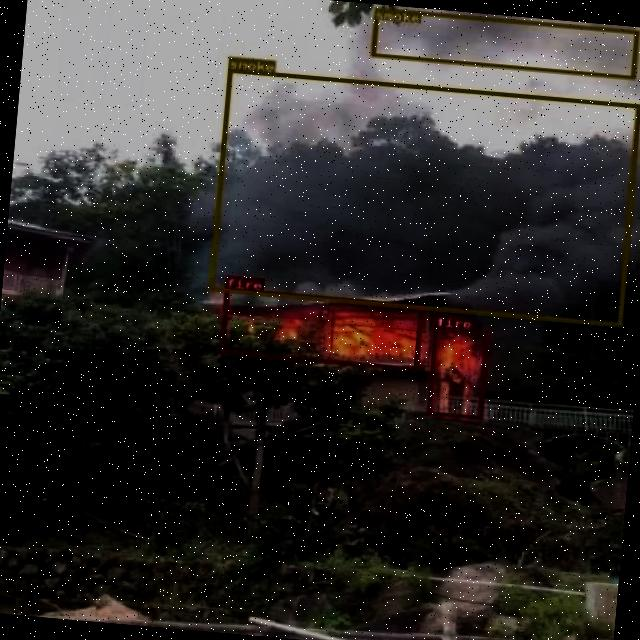fire: (218, 287, 422, 370), (426, 324, 489, 418)
smoke: (208, 68, 640, 324), (370, 7, 638, 78)
